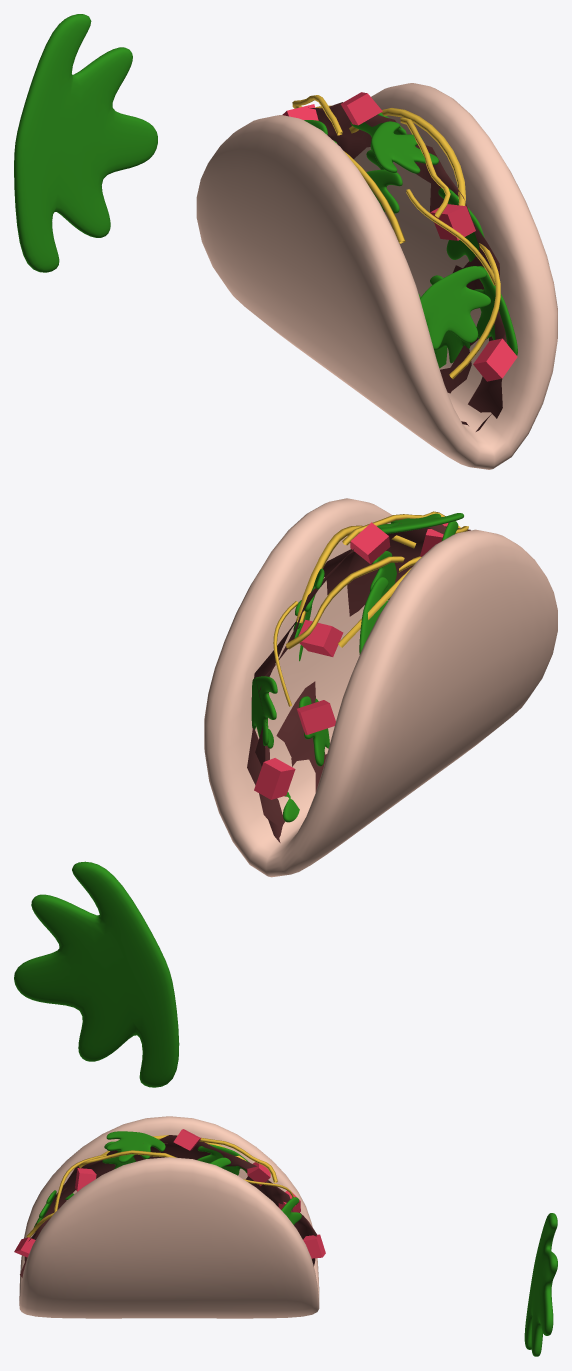
Rendered from Tacofr.fbx.
The picture shows the model from 3 angles, top to bottom: view 1: azimuth 30°, elevation 25°; view 2: azimuth 150°, elevation 25°; view 3: azimuth 270°, elevation 25°; orthographic projection. The views are drawn at different scales.
Parts seen in each view (by area): view 1: Shell, lechuga, Beef, Beef|lechuga|Dupli|14, Beef|lechuga|Dupli|13, BézierCurve.001, Tomato.004, Beef|lechuga|Dupli|2, Tomato.003, BézierCurve.006, Beef|lechuga|Dupli|1, Tomato.005 (+5 smaller); view 2: Shell, lechuga, Beef, Beef|lechuga|Dupli|7, Tomato.001, Tomato, Tomato.005, BézierCurve.005, BézierCurve.001, Tomato.002, Beef|lechuga|Dupli|13, Beef|lechuga|Dupli|; view 3: Shell, Beef, lechuga, Beef|lechuga|Dupli|13, Beef|lechuga|Dupli|, BézierCurve.005, BézierCurve.002, Tomato.001, Tomato.005, Tomato, Tomato.003.
Part boxes in pixels (bbox=[...]): Shell: bbox=[196, 83, 557, 469]; lechuga: bbox=[14, 14, 157, 272]; Beef: bbox=[308, 102, 506, 431]; Beef|lechuga|Dupli|14: bbox=[420, 266, 490, 349]; Beef|lechuga|Dupli|13: bbox=[371, 121, 438, 173]; BézierCurve.001: bbox=[349, 108, 465, 205]; Tomato.004: bbox=[473, 338, 517, 381]; Beef|lechuga|Dupli|2: bbox=[474, 266, 517, 355]; Tomato.003: bbox=[430, 204, 475, 240]; BézierCurve.006: bbox=[449, 243, 500, 378]; Beef|lechuga|Dupli|1: bbox=[438, 188, 484, 261]; Tomato.005: bbox=[340, 92, 382, 125]; Shell: bbox=[204, 498, 557, 877]; lechuga: bbox=[14, 861, 179, 1087]; Beef: bbox=[247, 523, 470, 842]; Beef|lechuga|Dupli|7: bbox=[251, 676, 277, 745]; Tomato.001: bbox=[254, 758, 295, 799]; Tomato: bbox=[298, 619, 343, 656]; Tomato.005: bbox=[350, 522, 390, 564]; BézierCurve.005: bbox=[286, 556, 404, 649]; BézierCurve.001: bbox=[296, 525, 416, 623]; Tomato.002: bbox=[297, 700, 335, 734]; Beef|lechuga|Dupli|13: bbox=[377, 513, 463, 533]; Beef|lechuga|Dupli|: bbox=[359, 577, 388, 654]; Shell: bbox=[19, 1116, 319, 1318]; Beef: bbox=[20, 1135, 316, 1277]; lechuga: bbox=[524, 1213, 557, 1356]; Beef|lechuga|Dupli|13: bbox=[106, 1131, 165, 1162]; Beef|lechuga|Dupli|: bbox=[197, 1144, 249, 1175]; BézierCurve.005: bbox=[199, 1137, 277, 1182]; BézierCurve.002: bbox=[78, 1150, 176, 1168]; Tomato.001: bbox=[303, 1234, 325, 1258]; Tomato.005: bbox=[173, 1129, 201, 1150]; Tomato: bbox=[247, 1162, 270, 1185]; Tomato.003: bbox=[75, 1168, 96, 1191].
Size of the model in its own units: 84.09 by 172 by 363.
